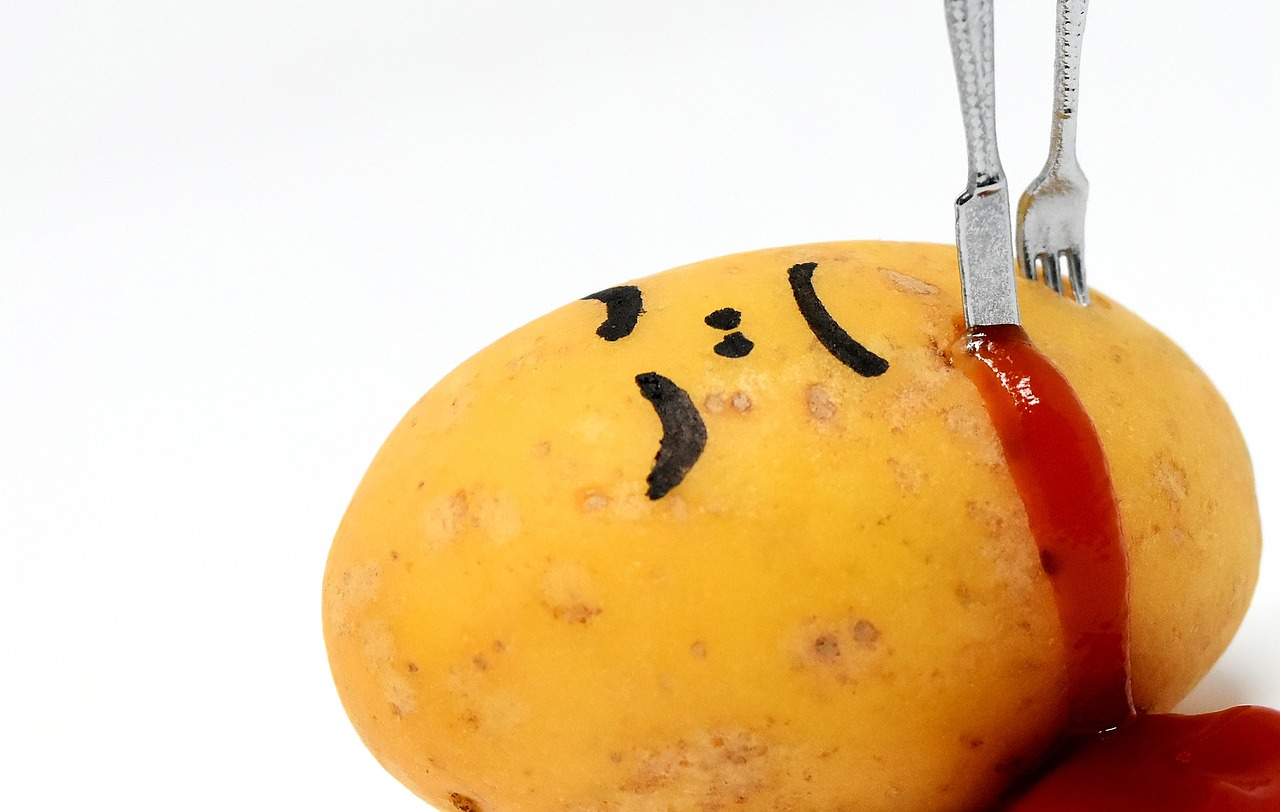knife: (946, 0, 1026, 380)
